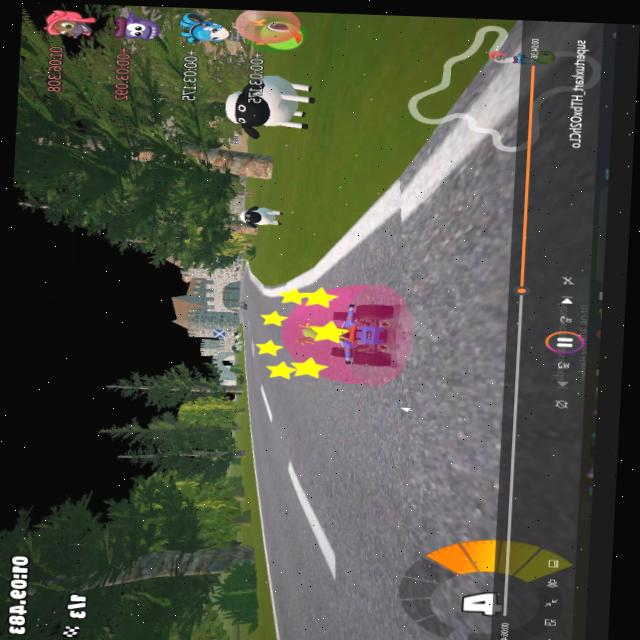enemy_kart: (236, 301, 249, 311)
player_kart: (277, 283, 410, 386)
track: (263, 381, 495, 640), (391, 213, 516, 389), (245, 289, 282, 494), (439, 153, 517, 215), (352, 242, 394, 288), (320, 262, 353, 285), (239, 313, 255, 344), (232, 283, 259, 300)
